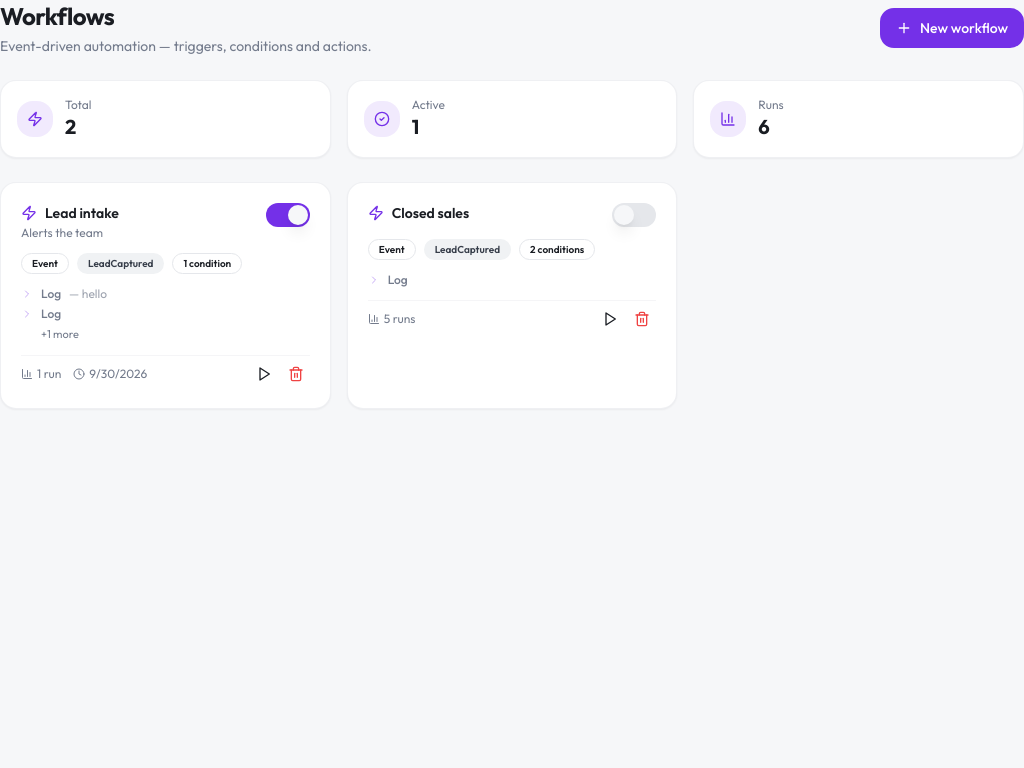
Test: Workflows in English › shows the run history with English statuses and the raw backend error
Click the button named "View runs" next to "9/30/2026" at (264, 374), box [250,360,278,388]
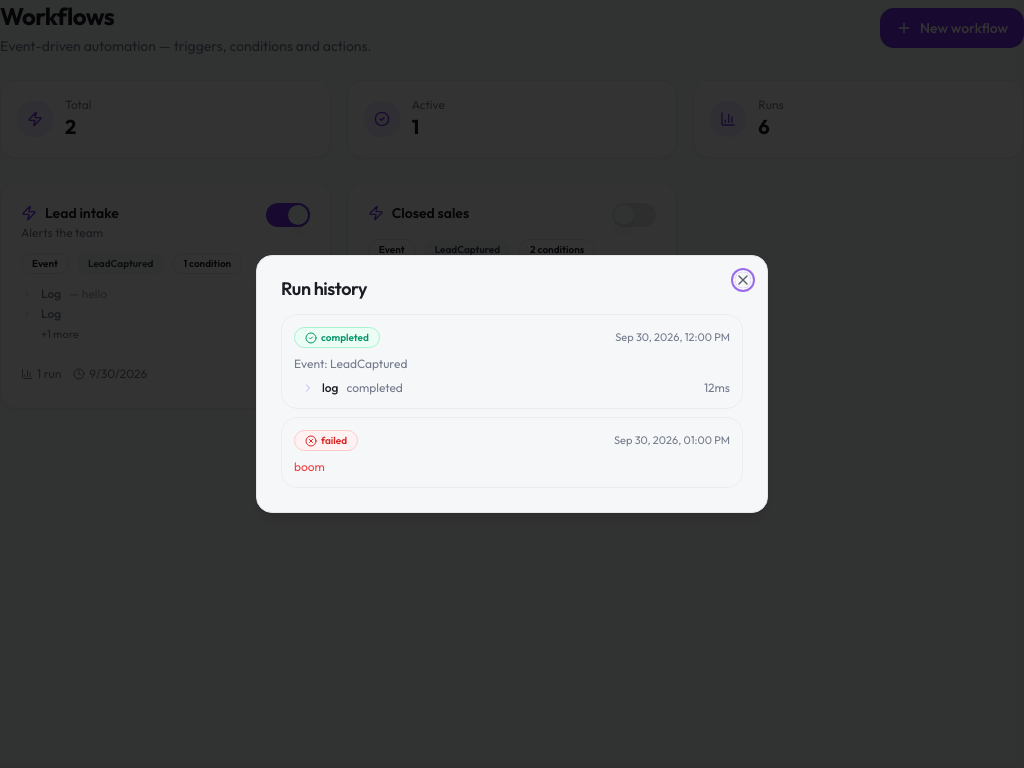
expect the heading "Run history" is shown: met, box [281,277,367,300]
expect the text "failed" is shown: met, box [294,430,358,451]
expect the text "completed" is shown: met, box [294,327,380,348]
